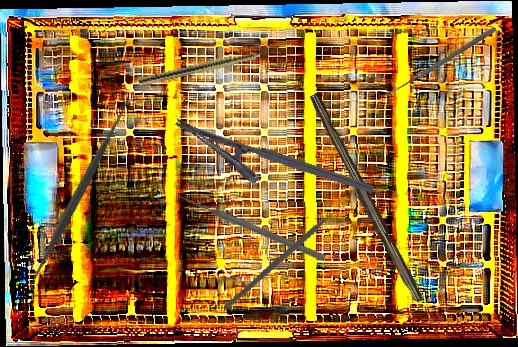Chopper: (223, 180, 354, 338)
Handpiece: (137, 44, 283, 89)
Needle Holder: (165, 117, 375, 221)
Pusher: (176, 191, 327, 263)
Scalpel Handle: (303, 92, 427, 305)
Spatula Surgical: (16, 90, 141, 297)
Surgical Spoon: (385, 25, 497, 99)
